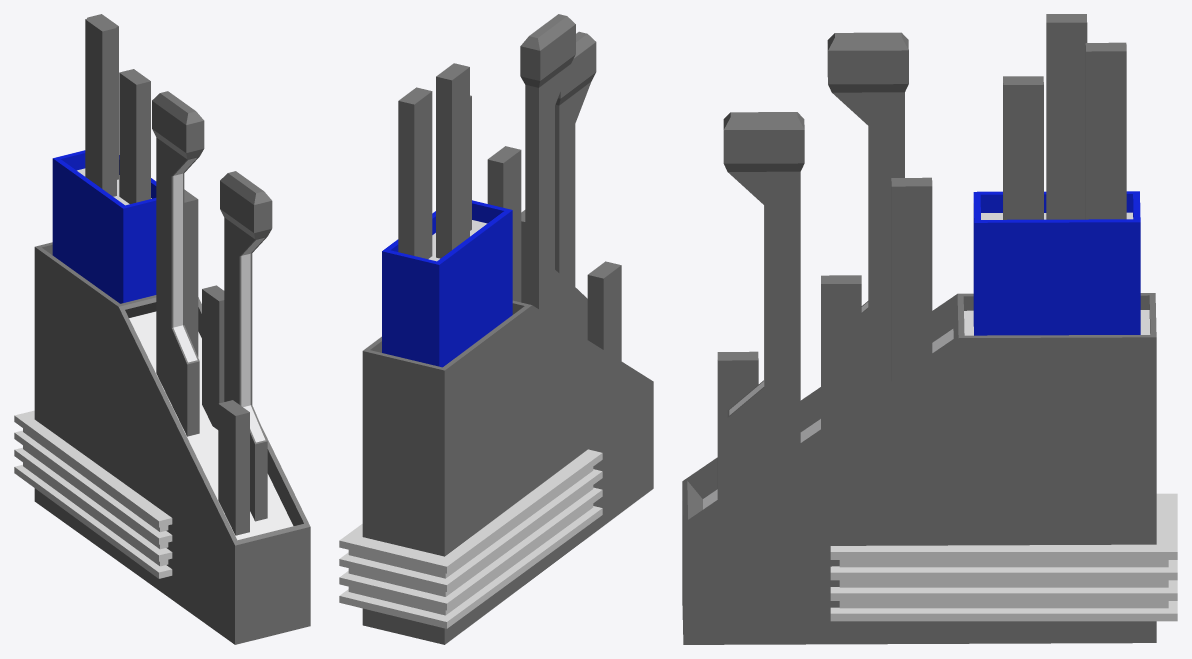
File: equipment1.fbx
3 views of the same model, side by side, from view 1: azimuth 30°, elevation 25°; view 2: azimuth 150°, elevation 25°; view 3: azimuth 270°, elevation 25° (orthographic). The views are drawn at different scales.
Parts seen in each view (by area): view 1: Box013, Box015, Box014, Box028, Box020, Box019, Box017, Box016, Box018, Box027; view 2: Box013, Box028, Box015, Box014, Box020, Box021, Box027, Box017, Box018, Box016; view 3: Box013, Box028, Box014, Box015, Box020, Box018, Box027, Box021, Box019, Box016, Box017.
Boxes of the visible parts, bbox=[...] form: Box013: bbox=[34, 150, 310, 644]; Box015: bbox=[152, 91, 204, 436]; Box014: bbox=[220, 171, 272, 521]; Box028: bbox=[14, 410, 172, 578]; Box020: bbox=[85, 15, 116, 196]; Box019: bbox=[119, 69, 150, 203]; Box017: bbox=[218, 400, 249, 535]; Box016: bbox=[202, 285, 224, 429]; Box018: bbox=[184, 189, 198, 356]; Box027: bbox=[23, 428, 168, 566]; Box013: bbox=[362, 200, 653, 644]; Box028: bbox=[339, 449, 602, 628]; Box015: bbox=[520, 14, 575, 329]; Box014: bbox=[555, 31, 596, 339]; Box020: bbox=[436, 63, 469, 258]; Box021: bbox=[398, 87, 432, 258]; Box027: bbox=[348, 467, 593, 615]; Box017: bbox=[587, 261, 621, 360]; Box018: bbox=[487, 146, 521, 302]; Box016: bbox=[521, 210, 525, 303]; Box013: bbox=[682, 191, 1156, 644]; Box028: bbox=[830, 493, 1177, 621]; Box014: bbox=[723, 112, 804, 492]; Box015: bbox=[827, 32, 908, 401]; Box020: bbox=[1046, 14, 1087, 219]; Box018: bbox=[891, 177, 932, 380]; Box027: bbox=[839, 560, 1168, 608]; Box021: bbox=[1085, 42, 1126, 219]; Box019: bbox=[1003, 76, 1043, 219]; Box016: bbox=[821, 275, 861, 428]; Box017: bbox=[717, 351, 758, 499].
Bounding box in the file's own units: 42.6 × 203 × 153.
